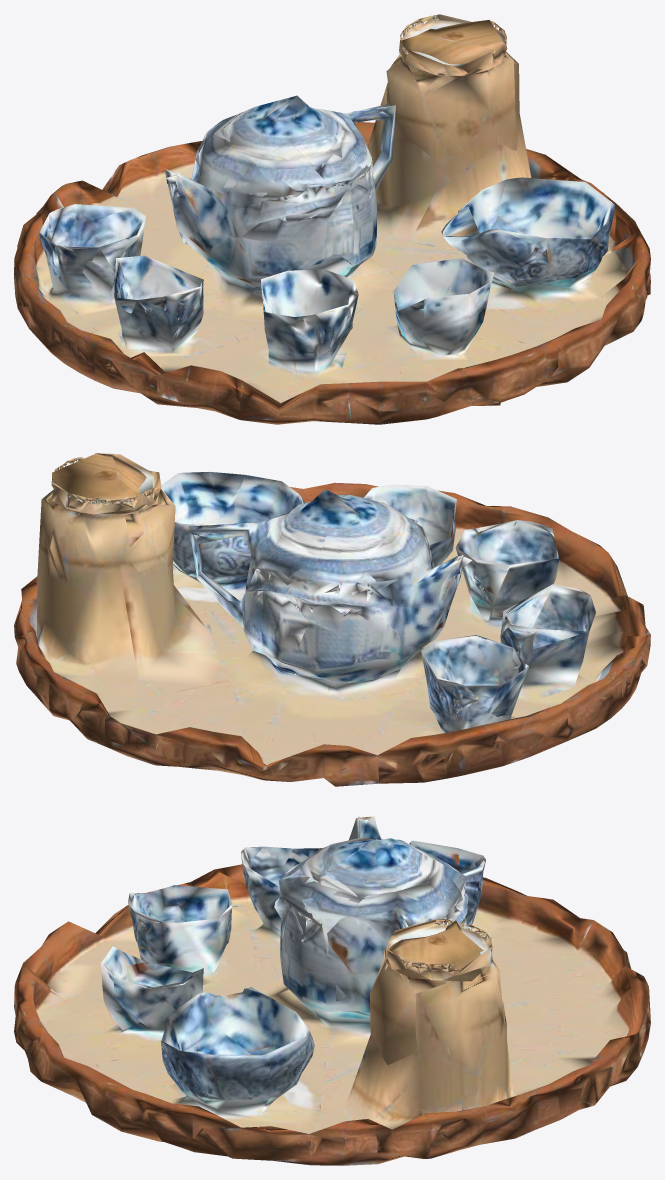
The model's file is pr_teaset.glb.
3 renders of one model, top to bottom at view 1: azimuth 30°, elevation 25°; view 2: azimuth 150°, elevation 25°; view 3: azimuth 270°, elevation 25°, orthographic.
Size of the model in its own units: 1.9 by 0.6161 by 1.89.
Materials: 1 (1 with a texture image).
